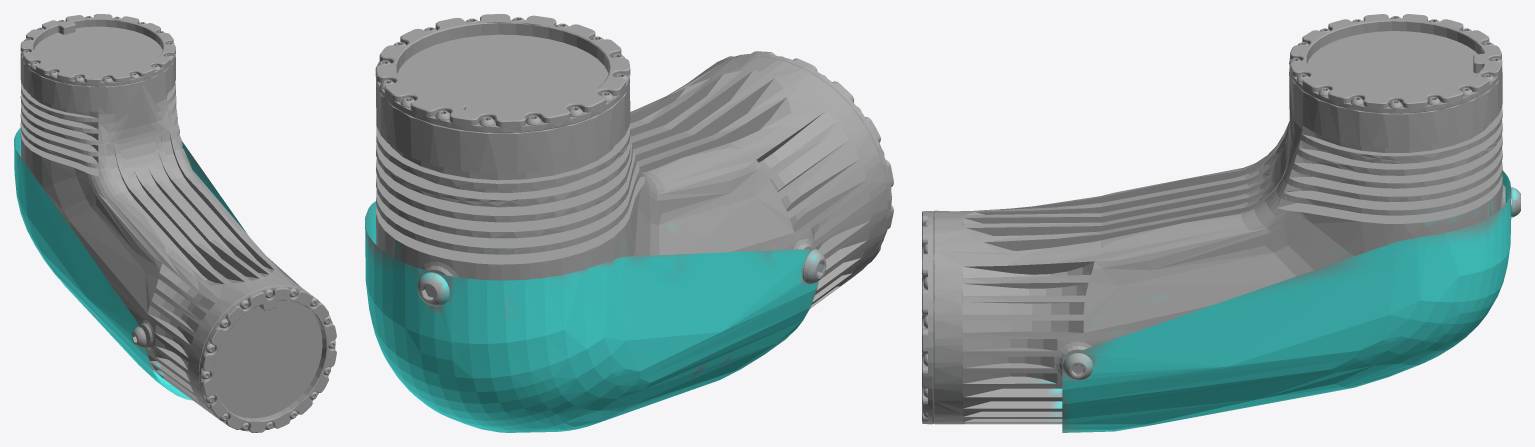
Rendered from arm-L2.obj.
3 renders of one model, left to right at view 1: azimuth 30°, elevation 25°; view 2: azimuth 150°, elevation 25°; view 3: azimuth 270°, elevation 25°, orthographic. The views are drawn at different scales.
Visible parts, largest first — view 1: arm-L2; view 2: arm-L2; view 3: arm-L2.
Boxes of the visible parts, x1,y1,x2,y2 form: arm-L2: (14,14,336,432); arm-L2: (365,14,893,432); arm-L2: (922,14,1520,432).
Bounding box in the file's own units: 0.0866 × 0.139 × 0.2073.
Materials: 1 (1 with a texture image).
